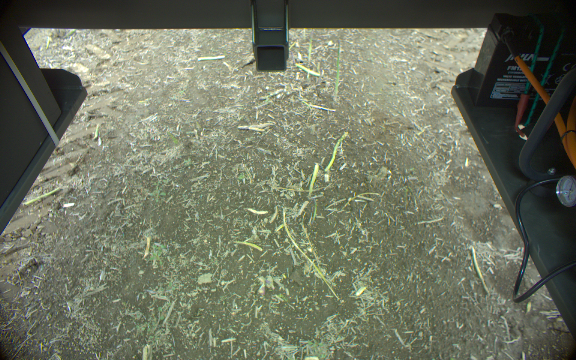aspa: (322, 130, 350, 173), (331, 37, 343, 100), (303, 30, 317, 77)
